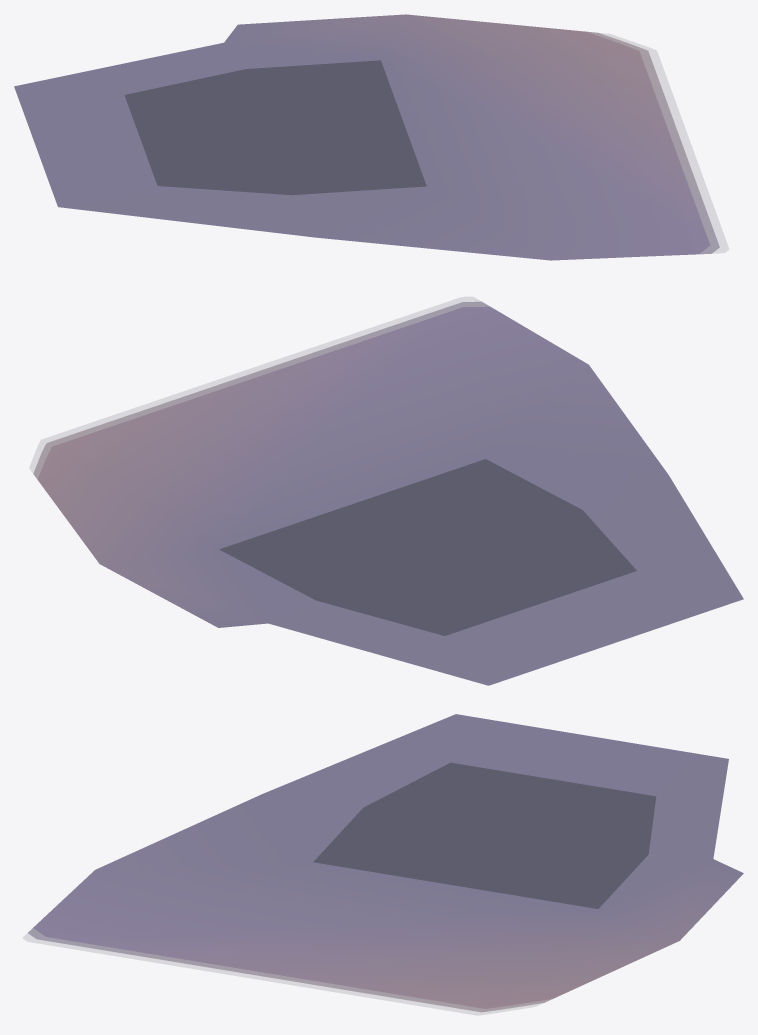
3 views of the same model, one above another, from view 1: azimuth 30°, elevation 25°; view 2: azimuth 150°, elevation 25°; view 3: azimuth 270°, elevation 25° (orthographic). The views are drawn at different scales.
Visible parts, largest first — view 1: Joint_0_Object_0; view 2: Joint_0_Object_0; view 3: Joint_0_Object_0.
Boxes of the visible parts, <box> form: Joint_0_Object_0: <box>14,14,719,260</box>; Joint_0_Object_0: <box>33,301,743,685</box>; Joint_0_Object_0: <box>27,714,743,1012</box>.
Bounding box in the file's own units: 925 × 0.7993 × 930.
1 material, 1 textured.
